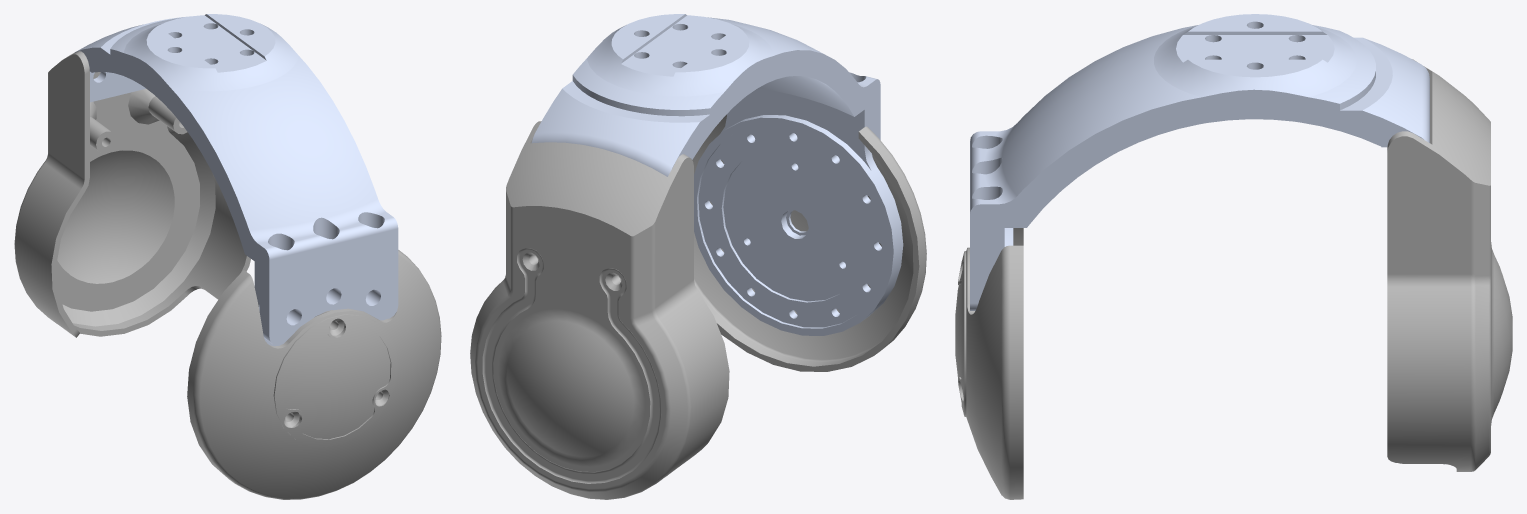
Rendered from RPelvisZ.obj.
The picture shows the model from 3 angles, left to right: view 1: azimuth 30°, elevation 25°; view 2: azimuth 150°, elevation 25°; view 3: azimuth 270°, elevation 25°; orthographic projection. The views are drawn at different scales.
Bounding box in the file's own units: 0.096 × 0.14 × 0.1613.
